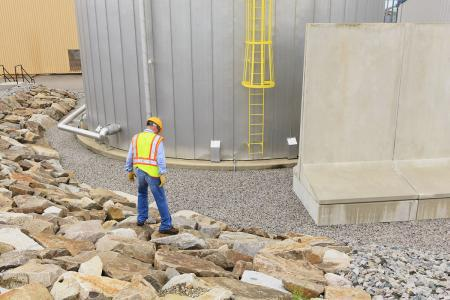helmet: (144, 115, 164, 139)
